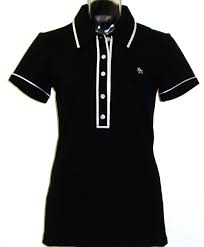C_polo shirt: (10, 4, 203, 247)
